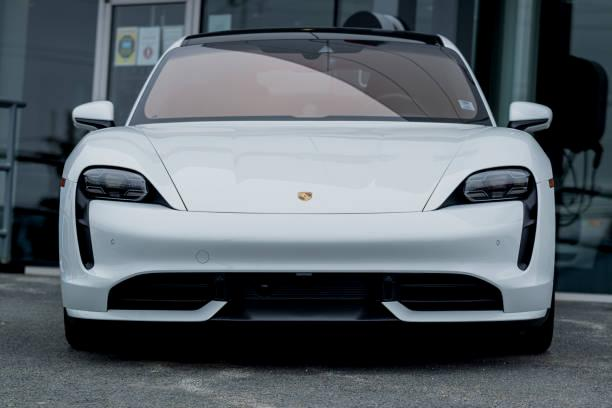porsche: (292, 187, 318, 205)
